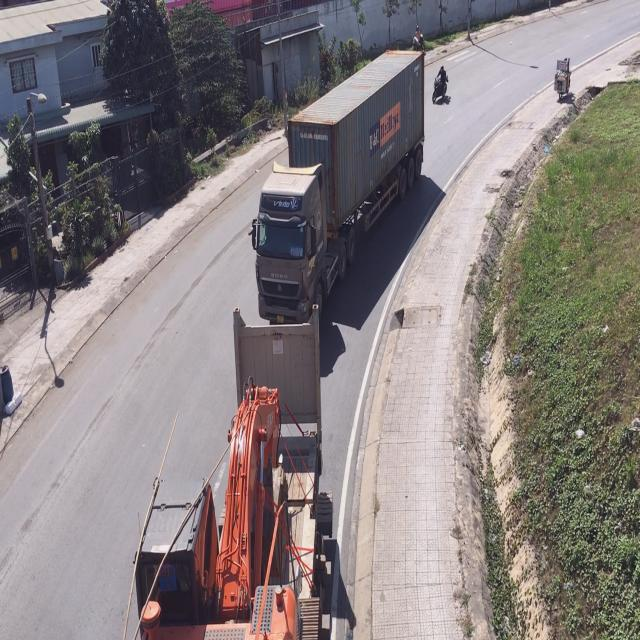motorbike: (432, 62, 449, 106), (554, 56, 570, 101)
truck: (128, 305, 330, 640), (254, 50, 424, 328)
